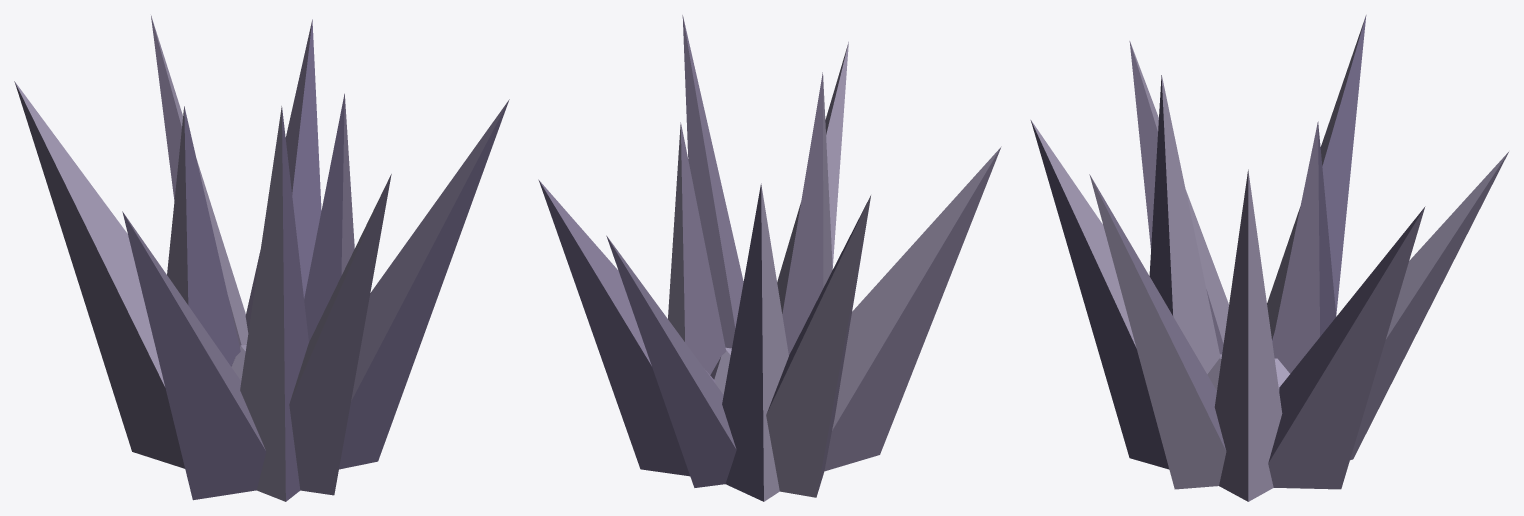
Rendered from tuft_1.glb.
The picture shows the model from 3 angles, left to right: view 1: azimuth 30°, elevation 25°; view 2: azimuth 150°, elevation 25°; view 3: azimuth 270°, elevation 25°; orthographic projection. The views are drawn at different scales.
Parts seen in each view (by area): view 1: Body; view 2: Body; view 3: Body.
Boxes of the visible parts, <box> form: Body: <box>14,15,509,501</box>; Body: <box>538,15,1001,501</box>; Body: <box>1030,15,1508,501</box>.
Size of the model in its own units: 0.5183 by 0.5228 by 0.6173.
